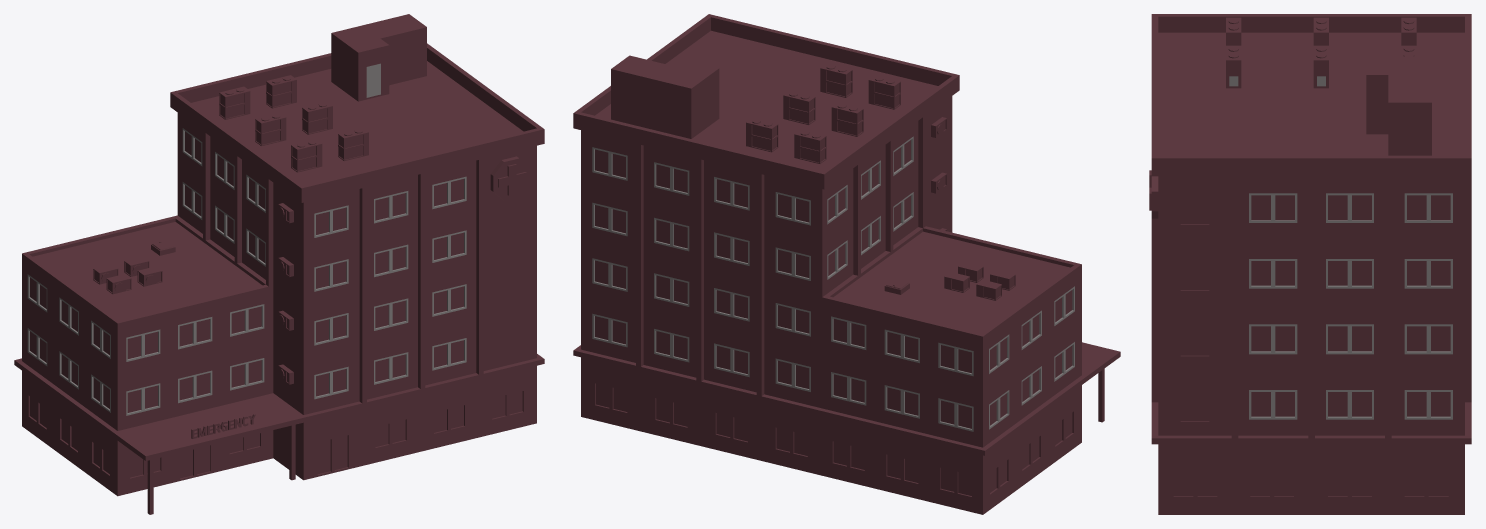
File: building-hospital.fbx
3 renders of one model, left to right at view 1: azimuth 30°, elevation 25°; view 2: azimuth 150°, elevation 25°; view 3: azimuth 270°, elevation 25°, orthographic. The views are drawn at different scales.
Parts seen in each view (by area): view 1: building-hospital; view 2: building-hospital; view 3: building-hospital.
Boxes of the visible parts, x1,y1,x2,y2 form: building-hospital: (14, 14, 544, 514); building-hospital: (573, 14, 1120, 514); building-hospital: (1149, 14, 1471, 514).
Bounding box in the file's own units: 25.6 × 20.3 × 14.7.
